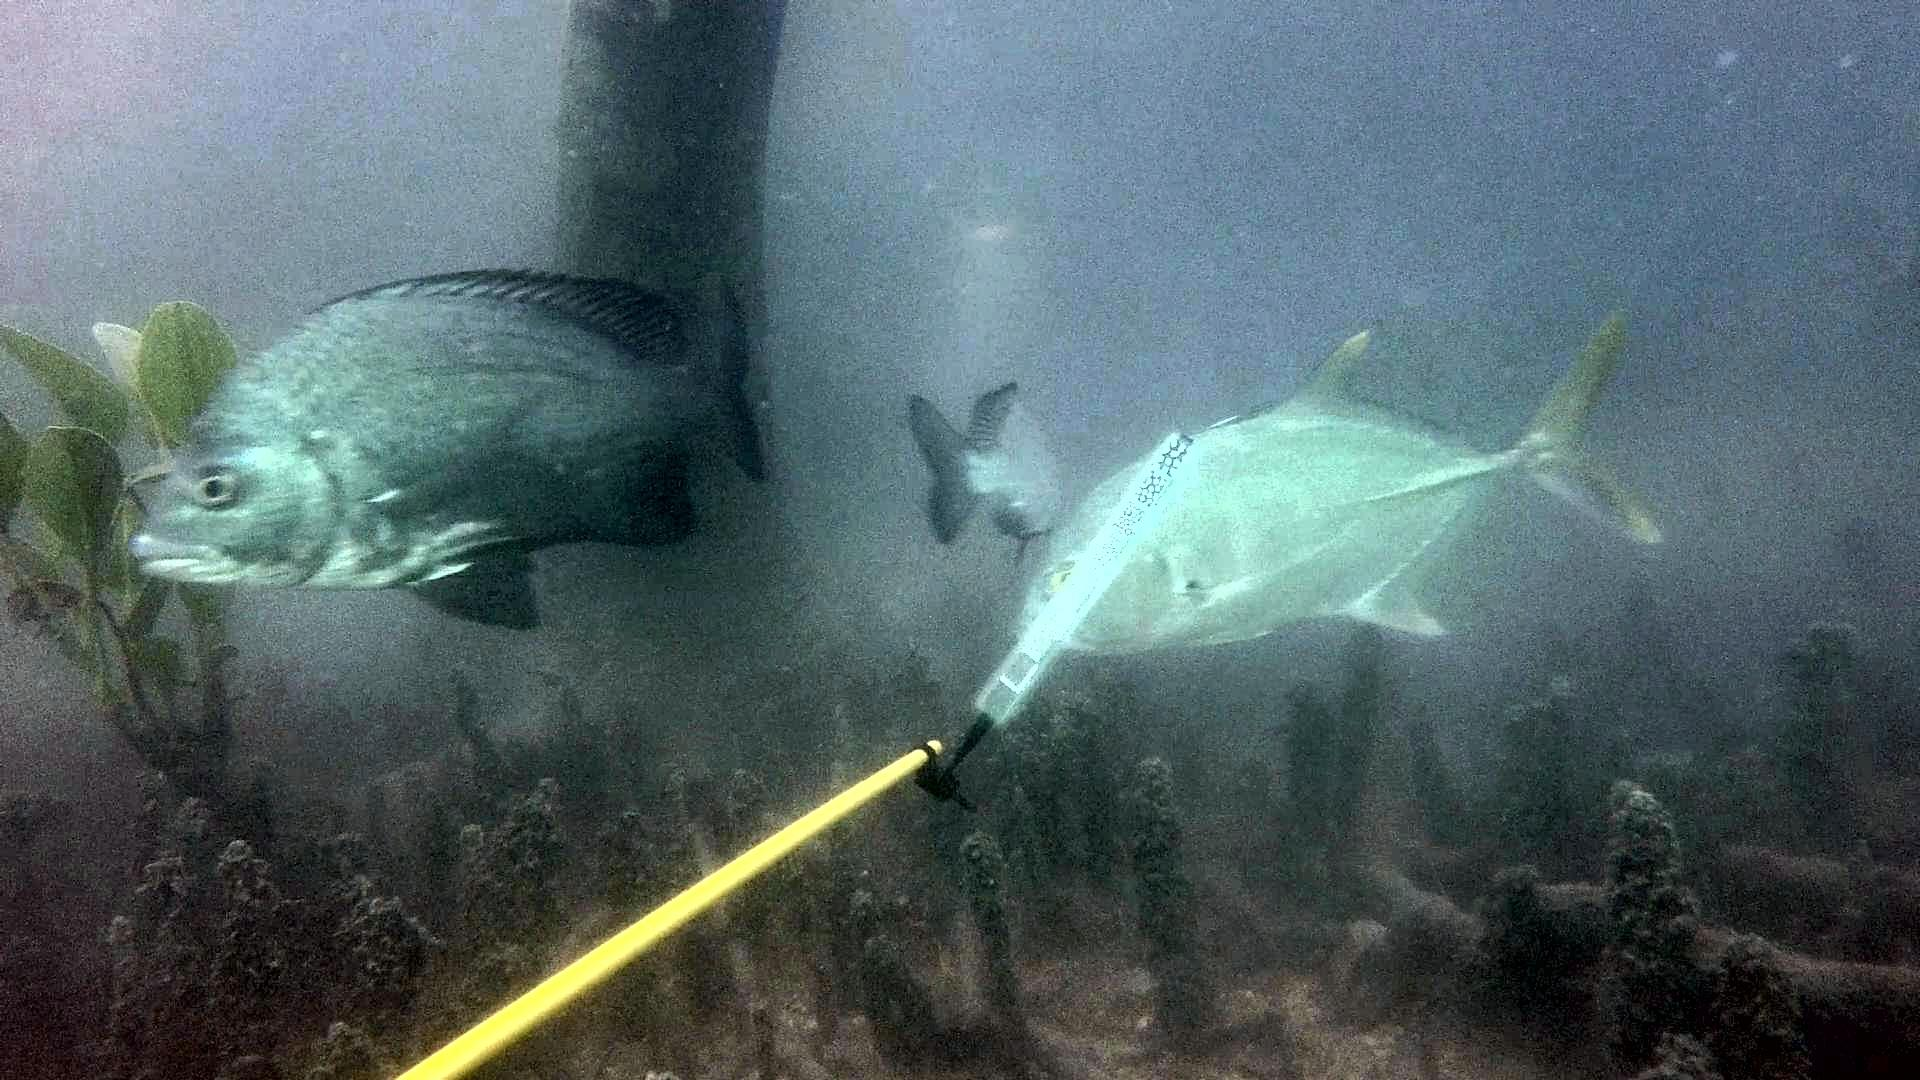acanthopagrus palmaris: (128, 256, 781, 639), (898, 371, 1074, 568)
caranx: (1003, 298, 1679, 666)
